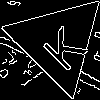K: (33, 17, 90, 74)
